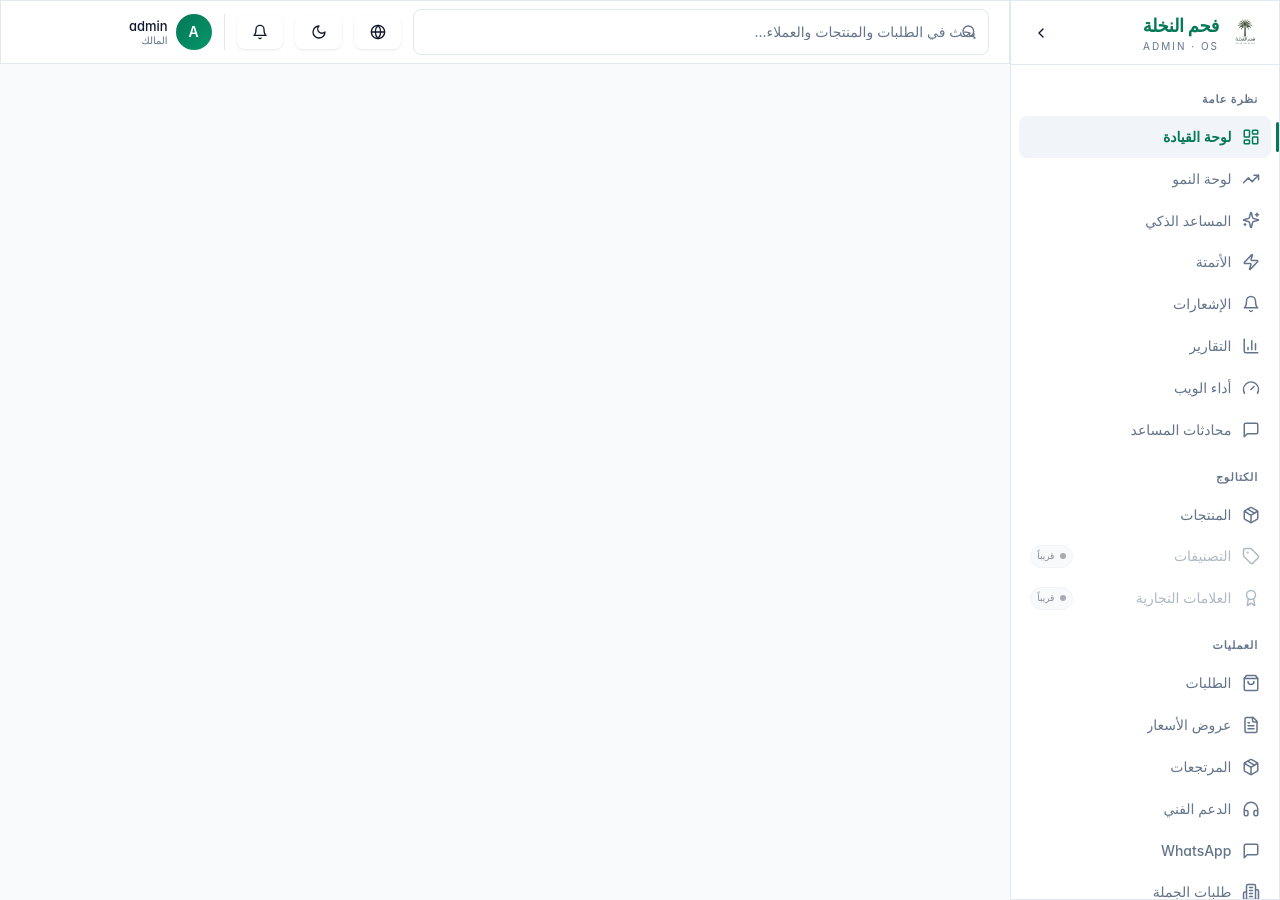
Admin theme toggle › toggles back to light on a second click
Step 1. Click the button titled "تبديل الثيم" → (319, 32), box x1=295 y1=15 x2=342 y2=49
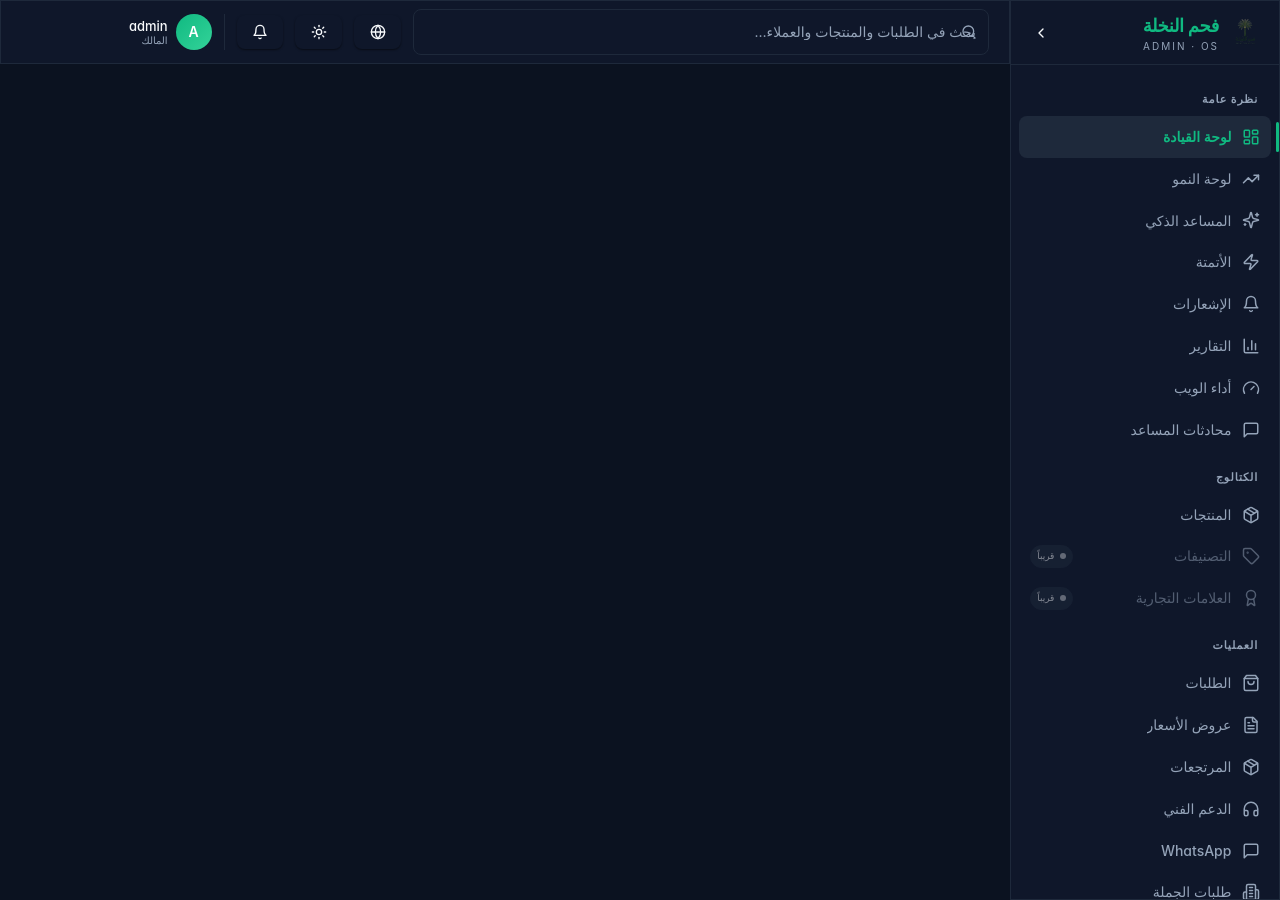
Step 2. Click the button titled "تبديل الثيم" → (319, 32), box x1=295 y1=15 x2=342 y2=49
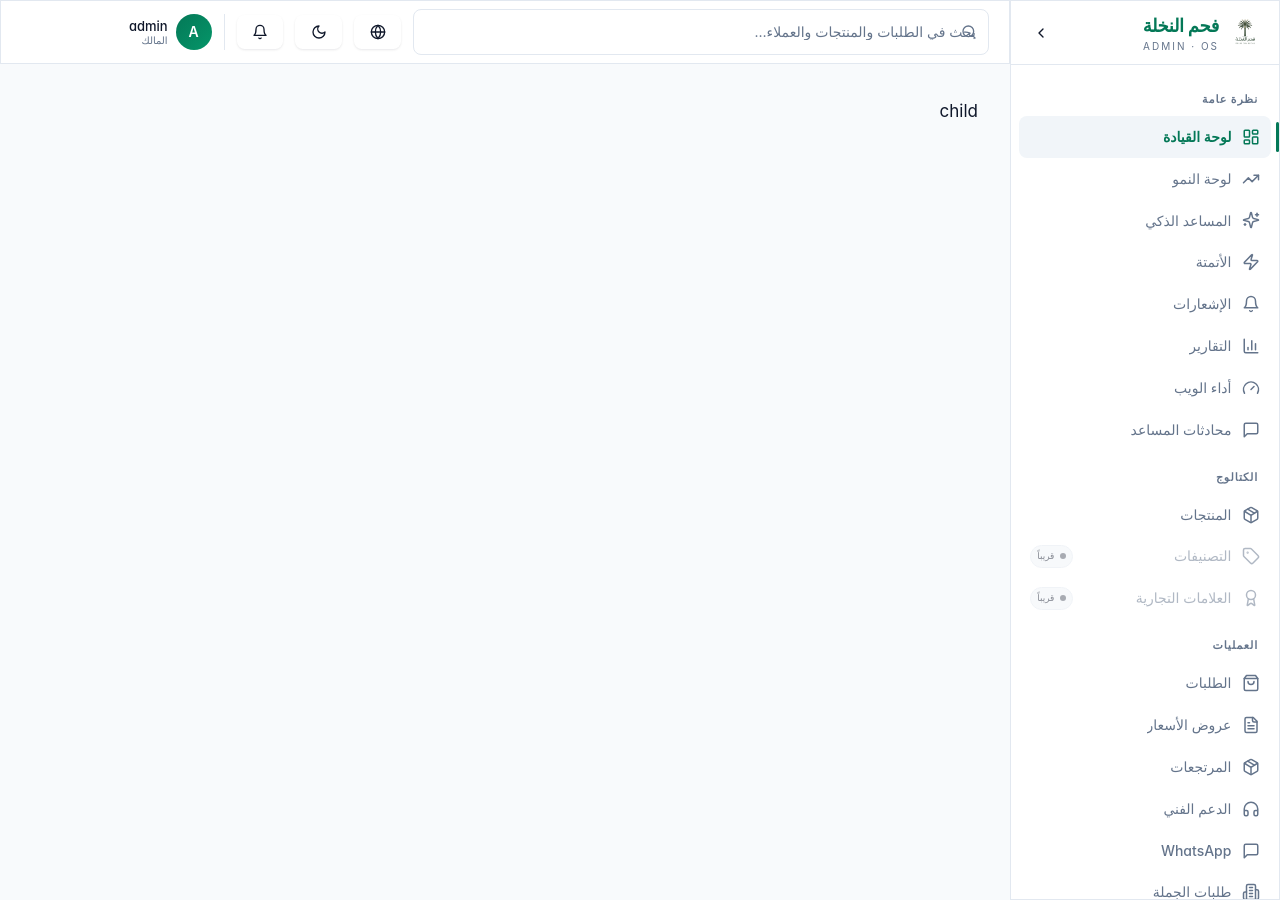
Now the element with class "admin-shell" has attribute data-theme="light"
